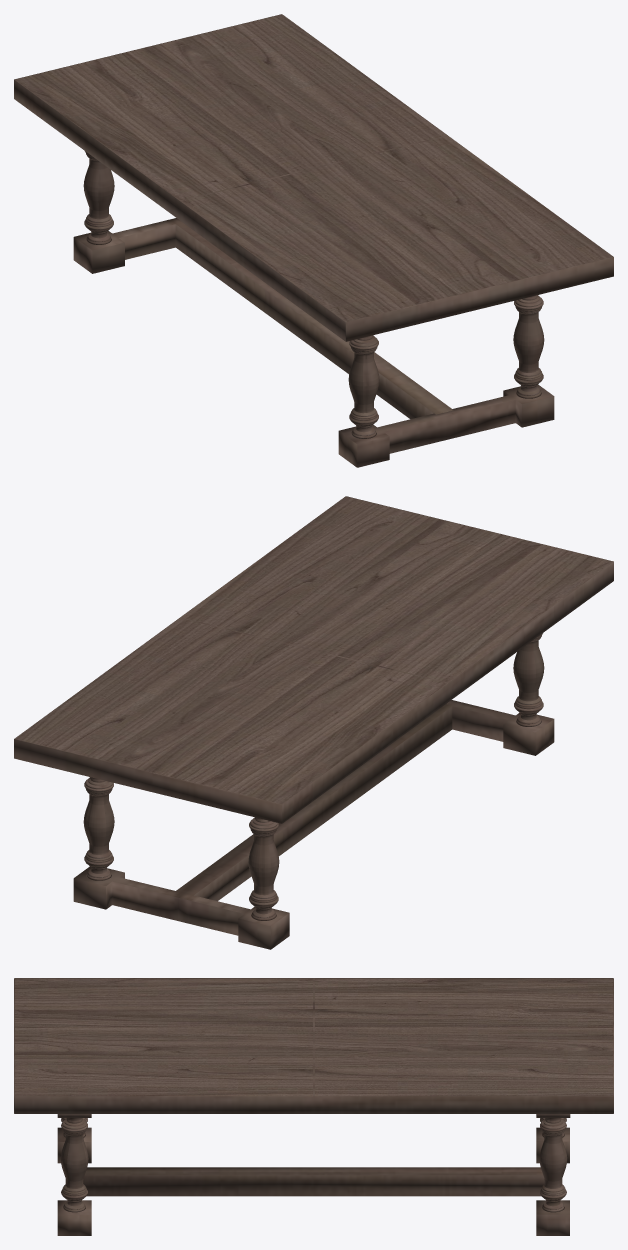
3 renders of one model, top to bottom at view 1: azimuth 30°, elevation 25°; view 2: azimuth 150°, elevation 25°; view 3: azimuth 270°, elevation 25°, orthographic. The views are drawn at different scales.
Visible parts, largest first — view 1: Cube; view 2: Cube; view 3: Cube.
Boxes of the visible parts, x1=… form: Cube: x1=14, y1=14, x2=613, y2=467; Cube: x1=14, y1=496, x2=613, y2=949; Cube: x1=14, y1=978, x2=613, y2=1235.
Bounding box in the file's own units: 2.07 × 1.26 × 4.43.
1 material, 1 textured.
